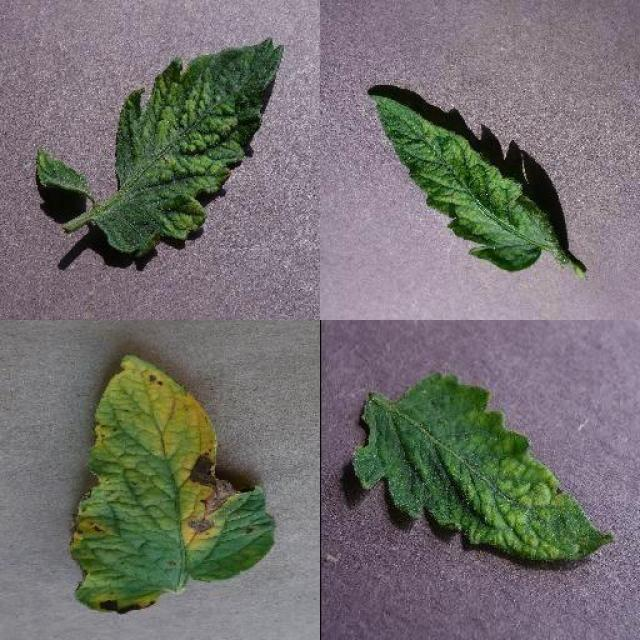Early Blight: (72, 351, 276, 615)
